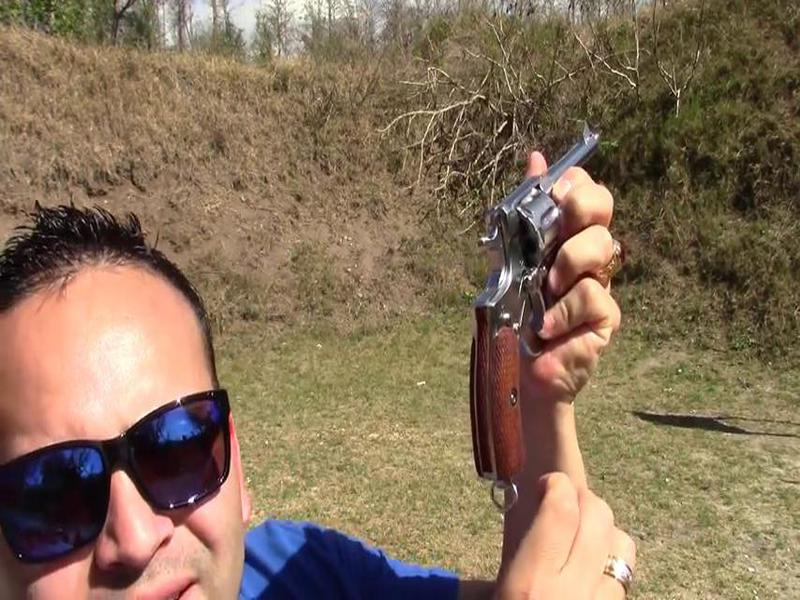Revolver: (441, 114, 628, 516)
